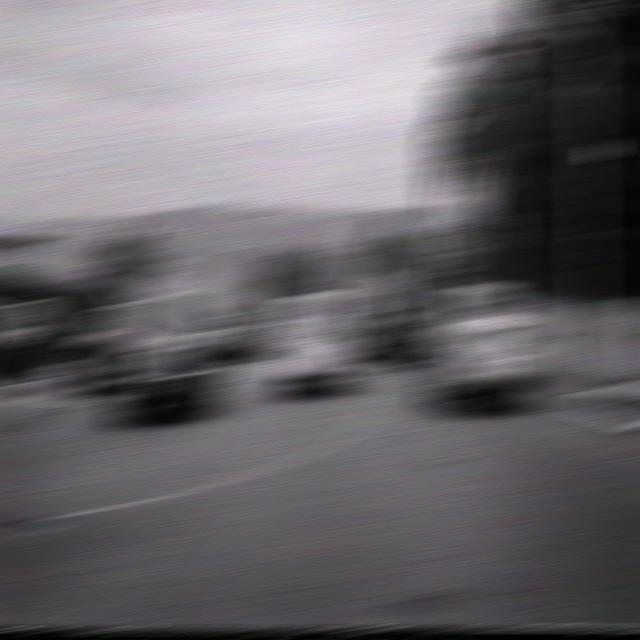speedLimit35: (437, 233, 472, 275)
